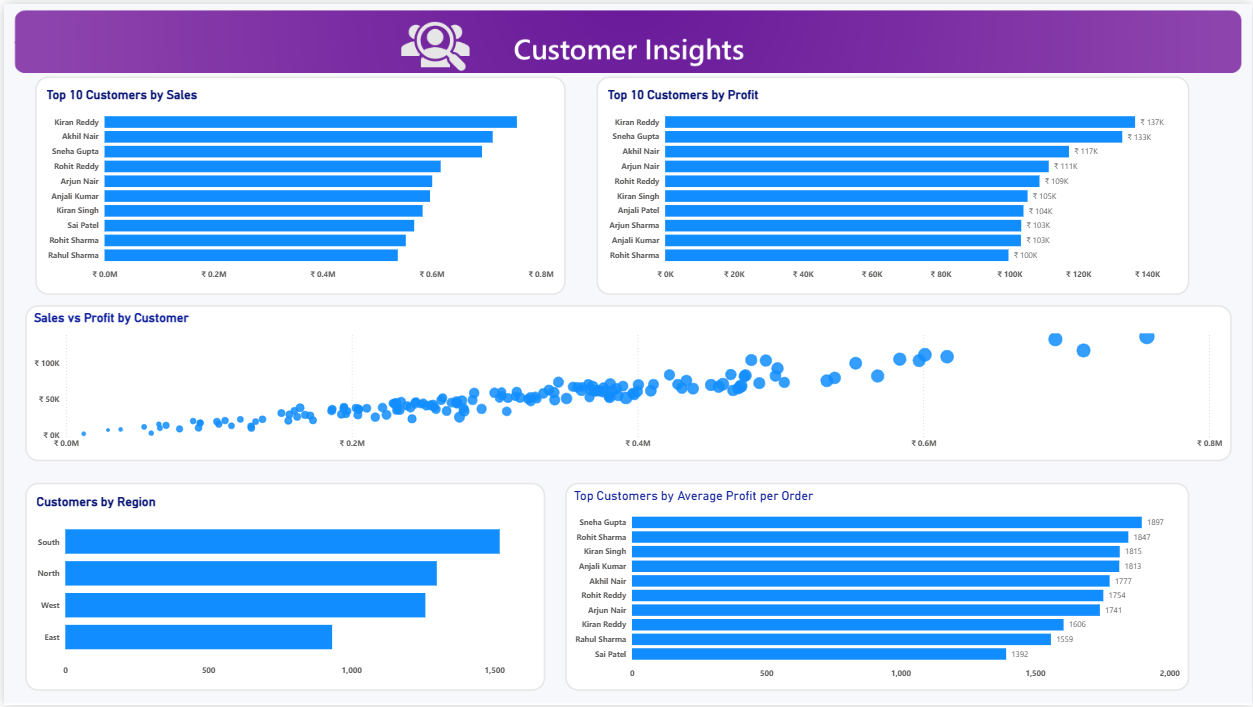

The page's visual inventory and layout, read from the dashboard file:
{"tool":"powerbi","page":{"name":"Customer Insights","canvas":[1920,1080],"ordinal":1},"visuals":[{"type":"barChart","title":"Top 10 Customers by Sales","fields":{"Category":["Retail_Sales_Master.Customer_Name"],"Y":["📊 Measures.Total Sales"]},"box":[48,112,816,336],"z":0},{"type":"barChart","title":"Top 10 Customers by Profit","fields":{"Category":["Retail_Sales_Master.Customer_Name"],"Y":["📊 Measures.Total Profit"]},"box":[912,112,912,336],"z":1000},{"type":"scatterChart","title":"Sales vs Profit by Customer","fields":{"X":["📊 Measures.Total Sales"],"Y":["📊 Measures.Total Profit"],"Size":["📊 Measures.Total Orders"],"Category":["Retail_Sales_Master.Customer_Name"]},"box":[32,464,1856,240],"z":2000},{"type":"barChart","title":"Customers by Region","fields":{"Category":["Retail_Sales_Master.Region"],"Y":["CountNonNull(Retail_Sales_Master.Customer_Name)"]},"box":[24,720,744,360],"z":3000},{"type":"barChart","title":"Top Customers by Average Profit per Order","fields":{"Category":["Retail_Sales_Master.Customer_Name"],"Y":["📊 Measures.Average Profit per Order"]},"box":[864,728,960,352],"z":4000},{"type":"textbox","title":"Customer Insights","box":[16,16,1872,80],"z":5000}]}

Visuals, with their boxes in screenshot pixels (x1, y1, x2, y2), scaled from the page's 1920x1080 canvas onto the 1253x707 screenshot:
"Top 10 Customers by Sales" barChart: 31,73,564,293
"Top 10 Customers by Profit" barChart: 595,73,1190,293
"Sales vs Profit by Customer" scatterChart: 21,304,1232,461
"Customers by Region" barChart: 16,471,501,706
"Top Customers by Average Profit per Order" barChart: 564,477,1190,706
"Customer Insights" textbox: 10,10,1232,63
